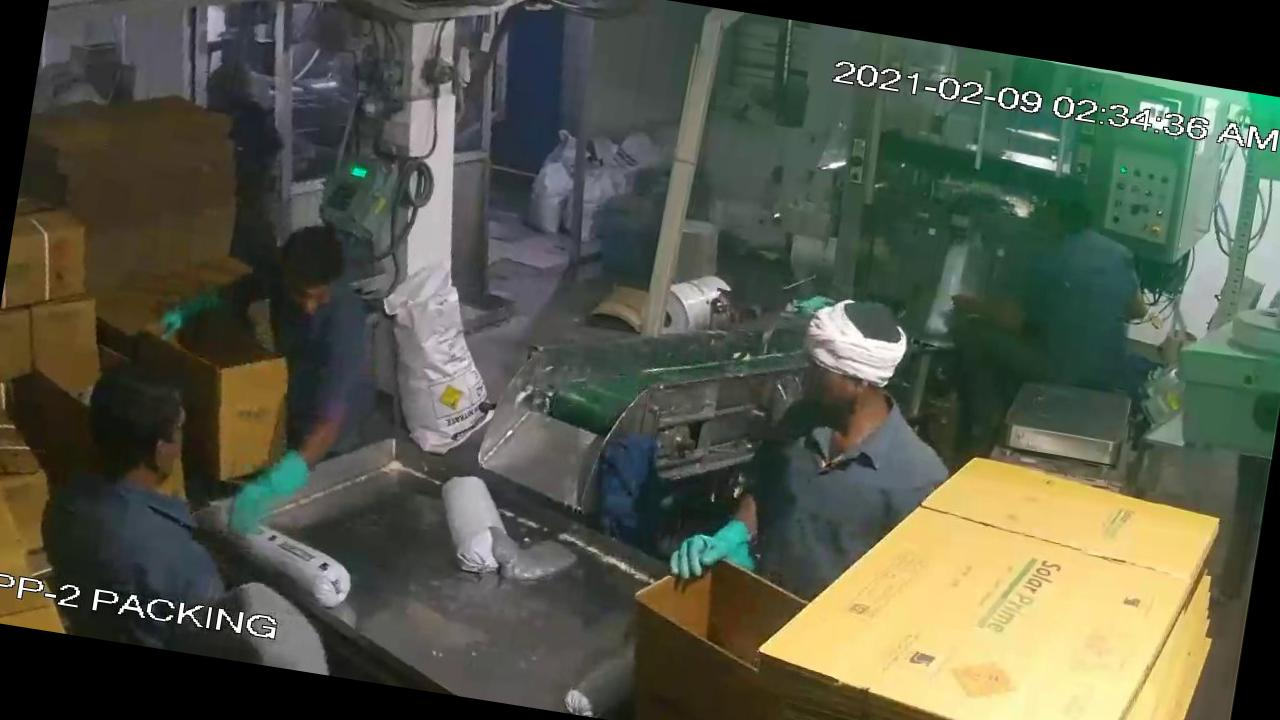Gloves: (183, 430, 338, 559), (126, 266, 264, 358), (647, 504, 769, 594)
No-gloves: (926, 272, 1069, 347)
